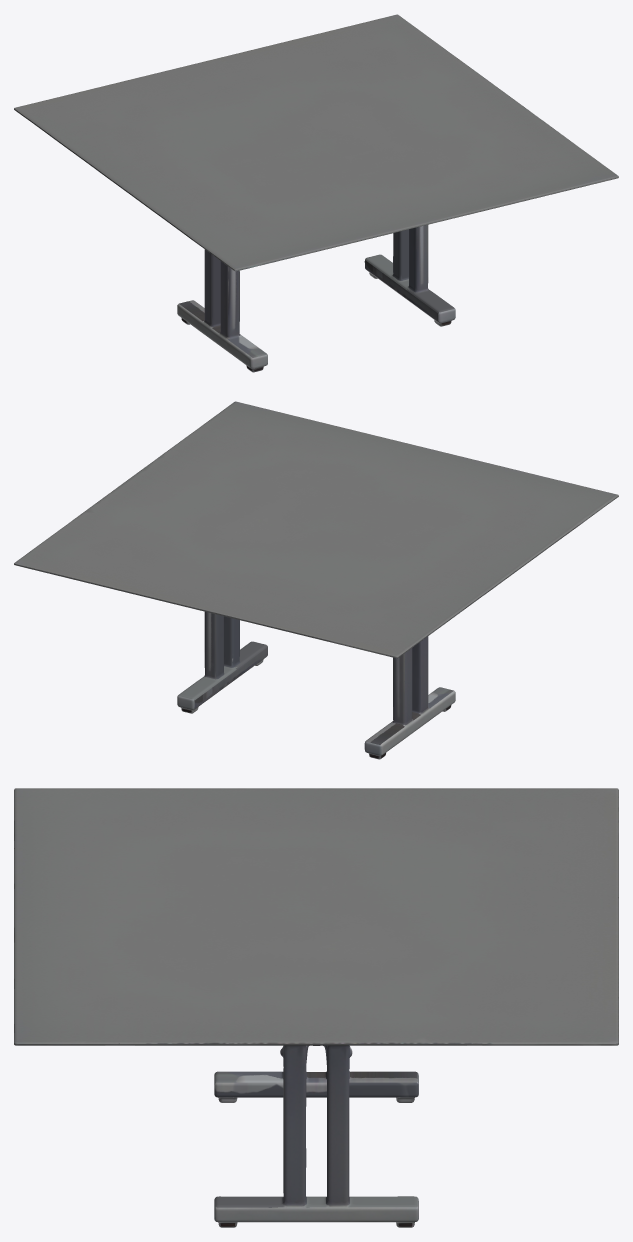
Rendered from WorkstationDesk.glb.
3 renders of one model, top to bottom at view 1: azimuth 30°, elevation 25°; view 2: azimuth 150°, elevation 25°; view 3: azimuth 270°, elevation 25°, orthographic. The views are drawn at different scales.
Visible parts, largest first — view 1: WorkstationDesk; view 2: WorkstationDesk; view 3: WorkstationDesk.
Boxes of the visible parts, left/top/right/bottom form: WorkstationDesk: left=14, top=14, right=618, bottom=372; WorkstationDesk: left=14, top=401, right=618, bottom=759; WorkstationDesk: left=14, top=788, right=618, bottom=1227.
Bounding box in the file's own units: 1.99 × 0.8992 × 1.99.
1 material, 1 textured.
